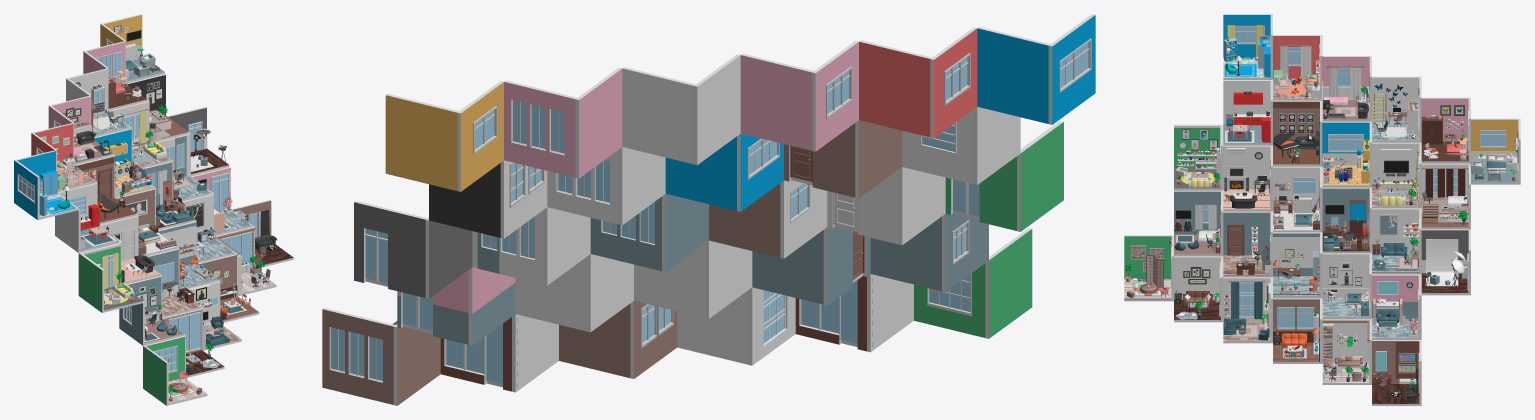
The model's file is Interior_2.glb.
The picture shows the model from 3 angles, left to right: view 1: azimuth 30°, elevation 25°; view 2: azimuth 150°, elevation 25°; view 3: azimuth 270°, elevation 25°; orthographic projection. The views are drawn at different scales.
Visible parts, largest first — view 1: Walls_080.002, Walls_080.007, Walls_006.029, Walls_133.001, Walls_149.001, Walls_006.008, Walls_075.006, Walls_116.001, Walls_158.010, Walls_010.001, Walls_011.011, window_009.001 (+54 smaller); view 2: Walls_010.001, Walls_133.001, Walls_158.010, Walls_075.006, Walls_006.046, Walls_158.006, Walls_006.047, Walls_080.002, Walls_080.007, Walls_006.008, Walls_149.010, Walls_149.001 (+81 smaller); view 3: Walls_006.047, Walls_006.001, entertainment_032.001, Walls_080.002, Walls_006.029, Walls_006.011, Walls_006.022, Walls_006.009, Walls_116.014, Walls_006.007, Walls_158.006, Walls_080.007 (+61 smaller).
Boxes of the visible parts, x1,y1,x2,y2 form: Walls_080.002: (143, 345, 168, 405); Walls_080.007: (78, 252, 103, 312); Walls_006.029: (55, 209, 80, 252); Walls_133.001: (33, 123, 73, 162); Walls_149.001: (198, 254, 236, 289); Walls_006.008: (158, 221, 195, 258); Walls_075.006: (16, 150, 55, 192); Walls_116.001: (126, 276, 161, 320); Walls_158.010: (51, 96, 90, 128); Walls_010.001: (102, 14, 142, 46); Walls_011.011: (127, 74, 165, 115); window_009.001: (210, 172, 229, 211); Walls_010.001: (385, 94, 458, 190); Walls_133.001: (859, 40, 931, 137); Walls_158.010: (740, 53, 813, 150); Walls_075.006: (977, 27, 1050, 123); Walls_006.046: (622, 67, 695, 164); Walls_158.006: (575, 67, 622, 178); Walls_006.047: (693, 54, 740, 165); Walls_080.002: (985, 228, 1032, 338); Walls_080.007: (1017, 121, 1063, 231); Walls_006.008: (634, 243, 705, 317); Walls_149.010: (709, 183, 780, 257); Walls_149.001: (559, 304, 630, 377); Walls_006.047: (1372, 76, 1421, 109); Walls_006.001: (1174, 256, 1223, 299); entertainment_032.001: (1425, 239, 1458, 286); Walls_080.002: (1124, 235, 1173, 279); Walls_006.029: (1223, 80, 1272, 123); Walls_006.011: (1322, 253, 1371, 288); Walls_006.022: (1372, 208, 1421, 252); Walls_006.009: (1273, 232, 1322, 267); Walls_116.014: (1322, 187, 1371, 231); Walls_006.007: (1322, 319, 1371, 362); Walls_158.006: (1421, 97, 1470, 141); Walls_080.007: (1174, 124, 1223, 168).
Size of the model in its own units: 33.65 by 21 by 33.6.
1 material, 1 textured.
